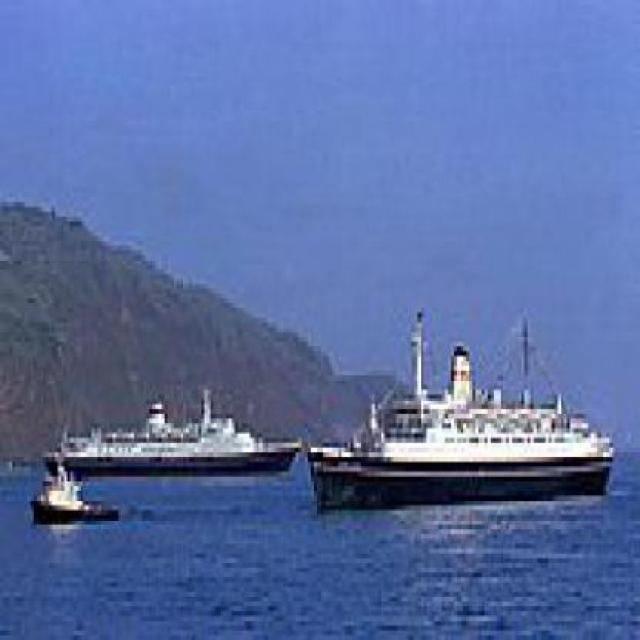cruise: (303, 347, 626, 521)
